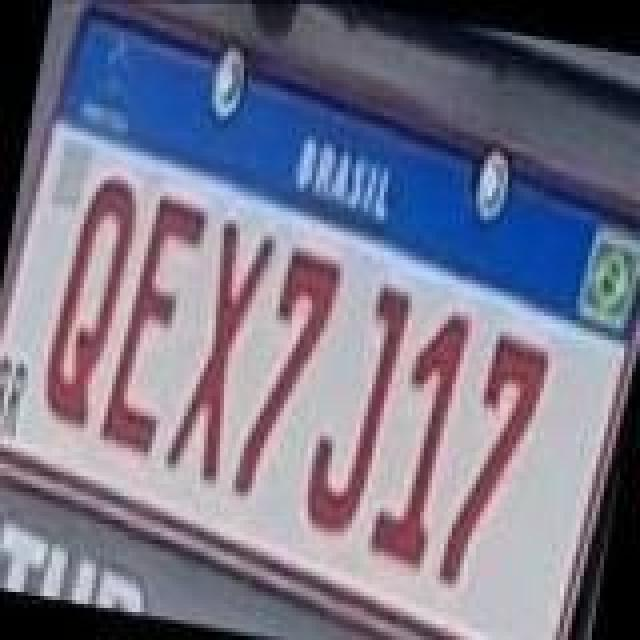1: (362, 300, 470, 576)
7: (230, 246, 346, 510), (438, 326, 554, 590)
E: (96, 188, 208, 460)
J: (298, 276, 414, 544)
Q: (34, 174, 142, 434)
X: (162, 218, 278, 490)
